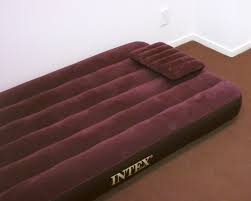bed-matress: (1, 39, 242, 201)
